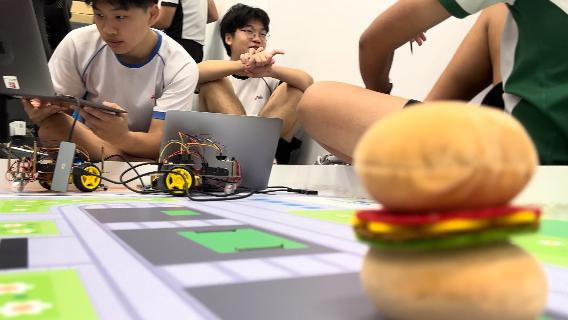burger: (348, 99, 550, 318)
